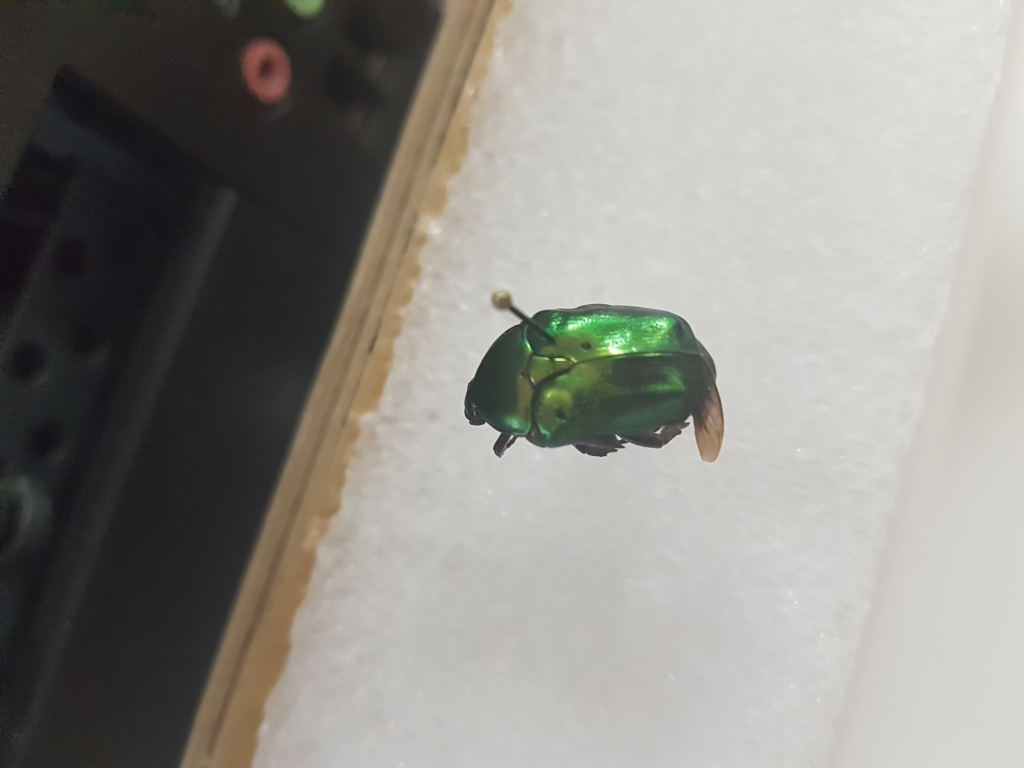Protaetia_cuprea_ignicollis: (454, 292, 735, 467)
